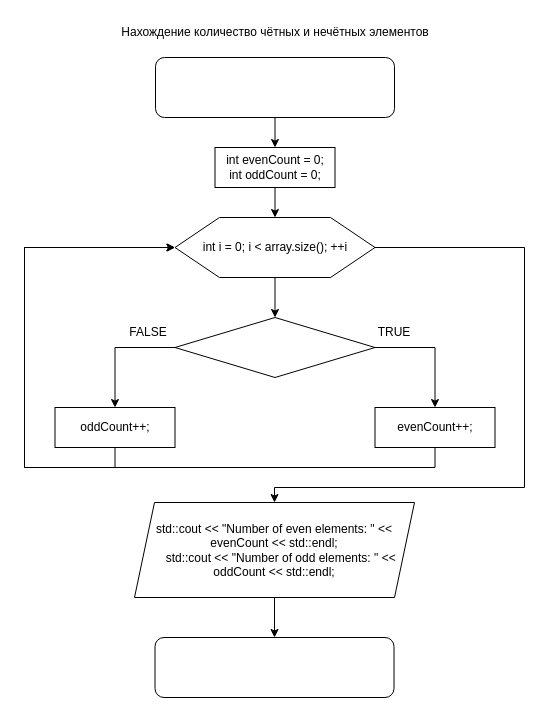
This 550x715 diagram has some shape labels left out. The centre of each missing label's shape, as x and y in pixels:
"array[i] % 2 == 0" belongs at point 274,347.
"void FindEvenOddElements(std::vector<int>& array)" belongs at point 274,87.
"Конец" belongs at point 274,667.
